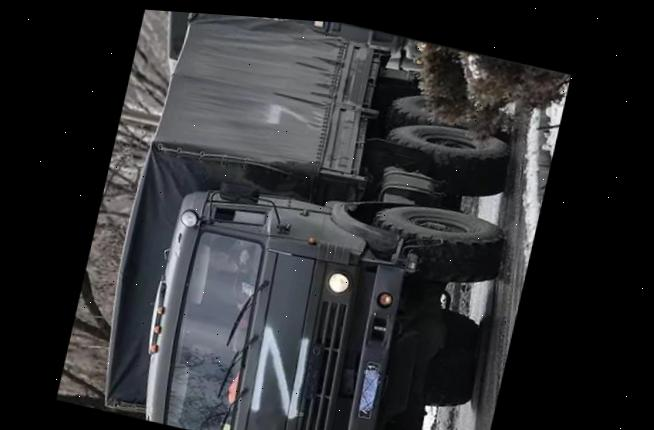truck: (102, 9, 538, 430)
